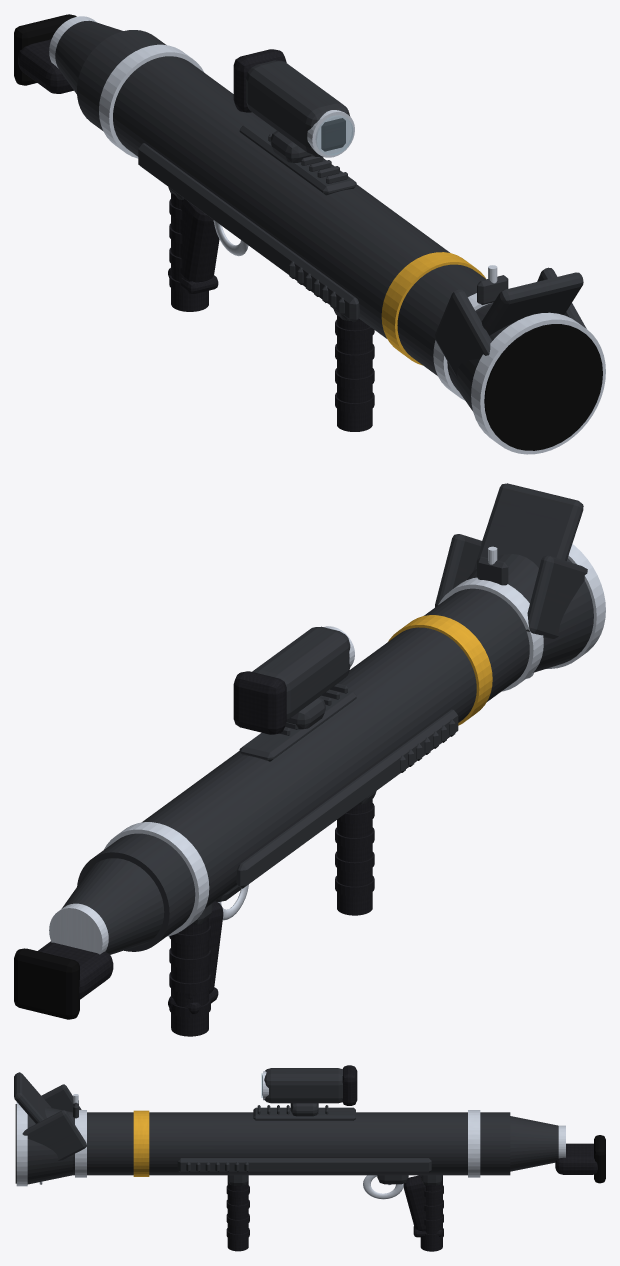
File: wep_rocket_launcher.glb
3 views of the same model, one above another, from view 1: azimuth 30°, elevation 25°; view 2: azimuth 150°, elevation 25°; view 3: azimuth 270°, elevation 25° (orthographic). The views are drawn at different scales.
Parts seen in each view (by area): view 1: wep_rocket_launcher_tube, wep_rocket_launcher_muzzle_bore, wep_rocket_launcher_optic_housing, wep_rocket_launcher_side_rail_l, wep_rocket_launcher_muzzle_rim, wep_rocket_launcher_blast_plate, wep_rocket_launcher_blast_wing_l, wep_rocket_launcher_grip_front_sleeve, wep_rocket_launcher_pistol_grip, wep_rocket_launcher_stripe_band, wep_rocket_launcher_tube_band_rear, wep_rocket_launcher_venturi (+11 smaller); view 2: wep_rocket_launcher_tube, wep_rocket_launcher_blast_plate, wep_rocket_launcher_venturi, wep_rocket_launcher_side_rail_l, wep_rocket_launcher_optic_housing, wep_rocket_launcher_shoulder_face, wep_rocket_launcher_muzzle_bell, wep_rocket_launcher_blast_wing_l, wep_rocket_launcher_optic_eyecup, wep_rocket_launcher_grip_rear_sleeve, wep_rocket_launcher_grip_front_sleeve, wep_rocket_launcher_stripe_band (+8 smaller); view 3: wep_rocket_launcher_tube, wep_rocket_launcher_side_rail_r, wep_rocket_launcher_optic_housing, wep_rocket_launcher_venturi, wep_rocket_launcher_blast_wing_r, wep_rocket_launcher_muzzle_bell, wep_rocket_launcher_stripe_band, wep_rocket_launcher_top_rail_base, wep_rocket_launcher_shoulder_pad, wep_rocket_launcher_blast_plate, wep_rocket_launcher_grip_front_sleeve, wep_rocket_launcher_pistol_grip (+10 smaller).
Boxes of the visible parts, x1,y1,x2,y2 form: wep_rocket_launcher_tube: (77,30,493,389); wep_rocket_launcher_muzzle_bore: (484,324,602,450); wep_rocket_launcher_optic_housing: (246,60,350,157); wep_rocket_launcher_side_rail_l: (138,143,359,322); wep_rocket_launcher_muzzle_rim: (471,312,605,454); wep_rocket_launcher_blast_plate: (481,272,583,335); wep_rocket_launcher_blast_wing_l: (435,289,491,377); wep_rocket_launcher_grip_front_sleeve: (337,315,372,431); wep_rocket_launcher_pistol_grip: (180,198,219,282); wep_rocket_launcher_stripe_band: (381,252,485,365); wep_rocket_launcher_tube_band_rear: (99,44,204,158); wep_rocket_launcher_venturi: (55,20,125,93); wep_rocket_launcher_tube: (77,588,529,951); wep_rocket_launcher_blast_plate: (473,483,583,571); wep_rocket_launcher_venturi: (61,841,182,954); wep_rocket_launcher_side_rail_l: (236,709,458,888); wep_rocket_launcher_optic_housing: (252,626,350,720); wep_rocket_launcher_shoulder_face: (14,948,79,1019); wep_rocket_launcher_muzzle_bell: (467,554,593,672); wep_rocket_launcher_blast_wing_l: (526,555,587,638); wep_rocket_launcher_optic_eyecup: (233,671,286,734); wep_rocket_launcher_grip_rear_sleeve: (171,918,208,1036); wep_rocket_launcher_grip_front_sleeve: (337,799,372,915); wep_rocket_launcher_stripe_band: (388,615,492,725); wep_rocket_launcher_tube: (73,1112,510,1175); wep_rocket_launcher_side_rail_r: (177,1158,431,1172); wep_rocket_launcher_optic_housing: (262,1068,342,1103); wep_rocket_launcher_venturi: (510,1116,558,1171); wep_rocket_launcher_blast_wing_r: (22,1110,86,1160); wep_rocket_launcher_muzzle_bell: (27,1107,72,1184); wep_rocket_launcher_stripe_band: (133,1110,149,1176); wep_rocket_launcher_top_rail_base: (253,1107,355,1120); wep_rocket_launcher_shoulder_pad: (555,1143,597,1174); wep_rocket_launcher_blast_plate: (14,1072,51,1123); wep_rocket_launcher_grip_front_sleeve: (227,1175,248,1251); wep_rocket_launcher_pistol_grip: (403,1175,442,1231).
Bounding box in the file's own units: 0.141 × 0.323 × 0.9786.
Materials: 6 (6 with a texture image).
